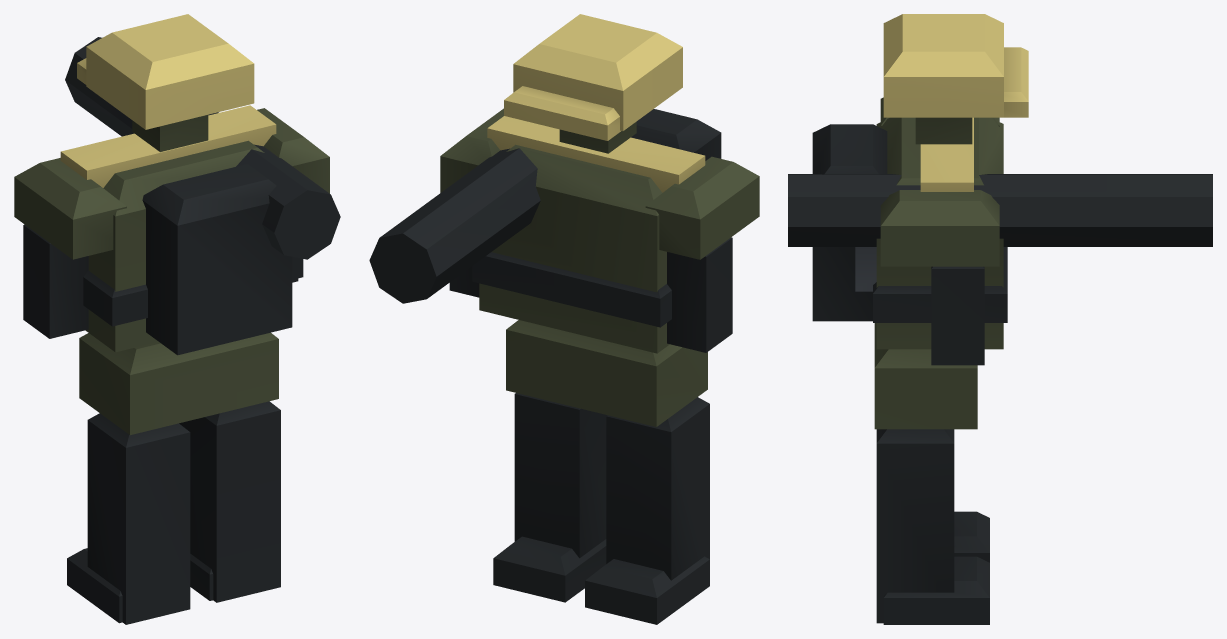
File: at_squad.glb
3 views of the same model, side by side, from view 1: azimuth 30°, elevation 25°; view 2: azimuth 150°, elevation 25°; view 3: azimuth 270°, elevation 25° (orthographic).
Parts seen in each view (by area): view 1: Body; view 2: Body; view 3: Body.
Boxes of the visible parts, x1=… form: Body: x1=14, y1=14, x2=340, y2=624; Body: x1=369, y1=14, x2=759, y2=624; Body: x1=788, y1=14, x2=1212, y2=624.
Size of the model in its own units: 0.8512 by 1.72 by 1.2.
